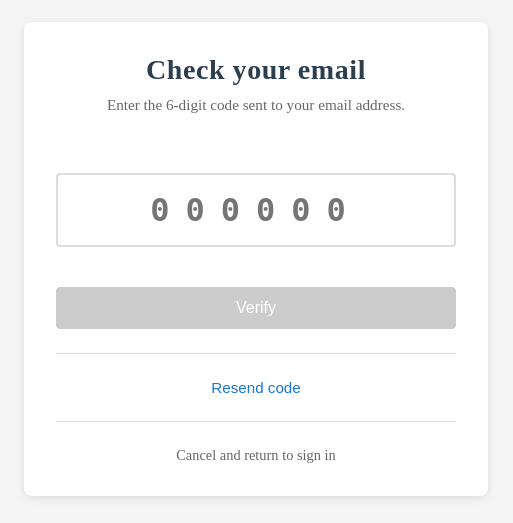
Test: OtpVerifyView › submit button should be disabled until OTP is 6 digits
The image size is (513, 523).
Expected: the button "Verify" is disabled, [56,287,456,329]
In the field with class "otp-input": {"x": 256, "y": 210} [56,173,456,247], type "123456"
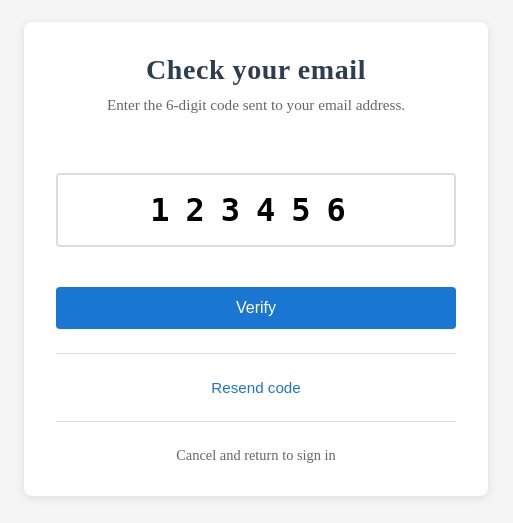
Now the button "Verify" is enabled, box [56,287,456,329]
